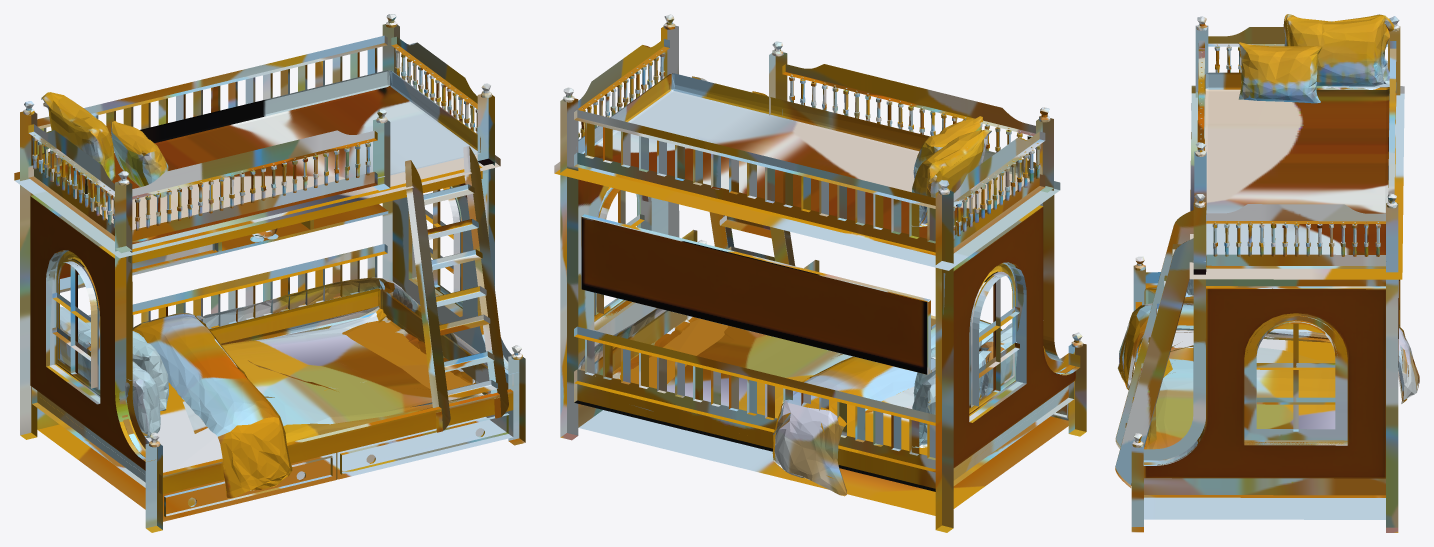
The model's file is edited_mesh.glb.
3 views of the same model, side by side, from view 1: azimuth 30°, elevation 25°; view 2: azimuth 150°, elevation 25°; view 3: azimuth 270°, elevation 25° (orthographic). The views are drawn at different scales.
Parts seen in each view (by area): view 1: solid_001_wire; view 2: solid_001_wire; view 3: solid_001_wire.
Part boxes in pixels (x1,y1,x2,y2): solid_001_wire: (14, 14, 525, 532); solid_001_wire: (554, 14, 1086, 532); solid_001_wire: (1115, 14, 1419, 532).
Size of the model in its own units: 1.47 by 1.27 by 1.01.
Materials: 1 (1 with a texture image).
